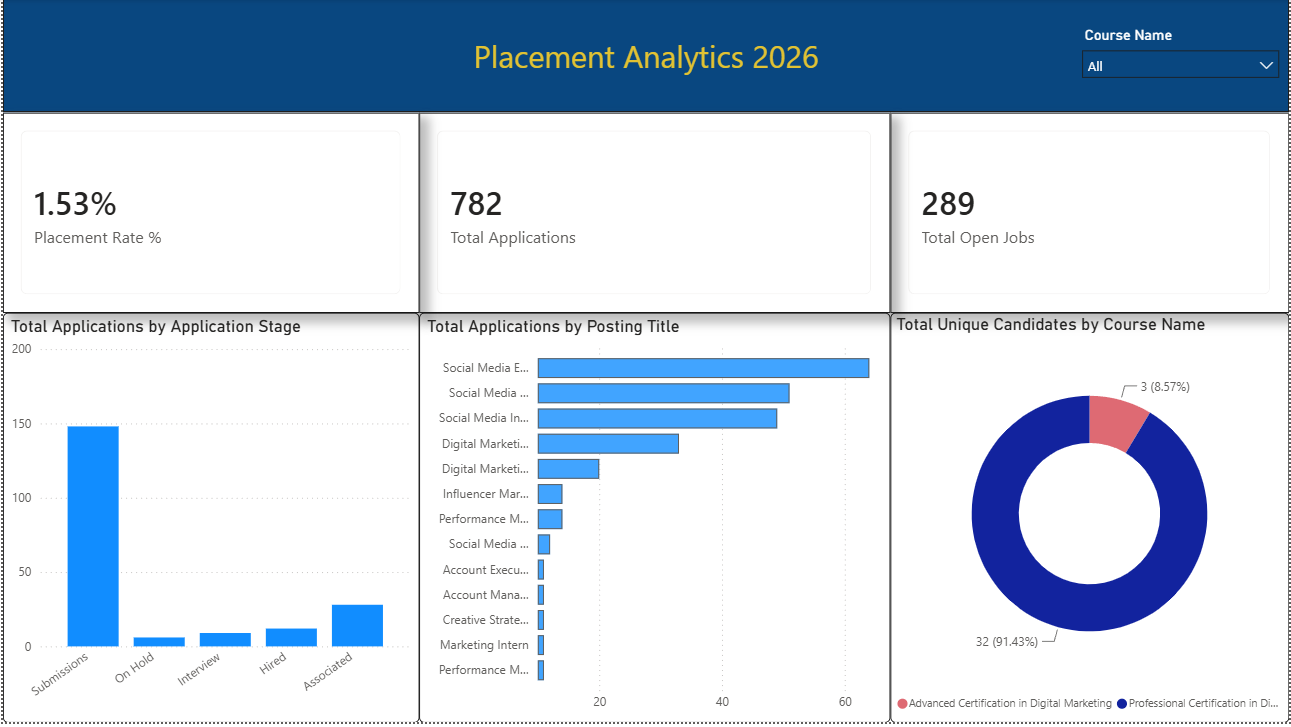

Layout of this report page (visuals, bound fields, positions):
{"tool":"powerbi","page":{"name":"Page 1","canvas":[1280,720],"ordinal":0},"visuals":[{"type":"shape","box":[0,0,1280,112.6],"z":0},{"type":"slicer","fields":{"Values":["dim_candidate.Course Name"]},"box":[1063.6,22.4,216.4,67.2],"z":1000},{"type":"cardVisual","fields":{"Data":["MeasuresTable.Total Open Jobs"]},"box":[883.2,113.2,396.8,199],"z":2000},{"type":"cardVisual","fields":{"Data":["MeasuresTable.Total Applications"]},"box":[414.2,113.2,469,199],"z":3000},{"type":"cardVisual","fields":{"Data":["MeasuresTable.Placement Rate %"]},"box":[0,113.2,414.2,199],"z":4000},{"type":"columnChart","fields":{"Category":["Fact_Application.Application Stage"],"Y":["MeasuresTable.Total Applications"]},"box":[0,312.2,414.2,408],"z":5000},{"type":"clusteredBarChart","fields":{"Category":["dim_job.Posting Title"],"Y":["MeasuresTable.Total Applications"]},"box":[414.2,312.2,469,408],"z":6000},{"type":"donutChart","title":"Total Unique Candidates by Course Name","fields":{"Category":["dim_candidate.Course Name"],"Y":["MeasuresTable.Total Unique Candidates"]},"box":[883.2,312.2,396.8,408],"z":7000}]}

Visuals, with their boxes in screenshot pixels (x1, y1, x2, y2), scaled from the page's 1280x720 canvas onto the 1291x727 screenshot:
shape: (0,0,1290,114)
slicer - dim_candidate.Course Name: (1073,23,1290,90)
cardVisual - MeasuresTable.Total Open Jobs: (891,114,1290,315)
cardVisual - MeasuresTable.Total Applications: (418,114,891,315)
cardVisual - MeasuresTable.Placement Rate %: (0,114,418,315)
columnChart - Fact_Application.Application Stage x MeasuresTable.Total Applications: (0,315,418,726)
clusteredBarChart - dim_job.Posting Title x MeasuresTable.Total Applications: (418,315,891,726)
"Total Unique Candidates by Course Name" donutChart: (891,315,1290,726)
